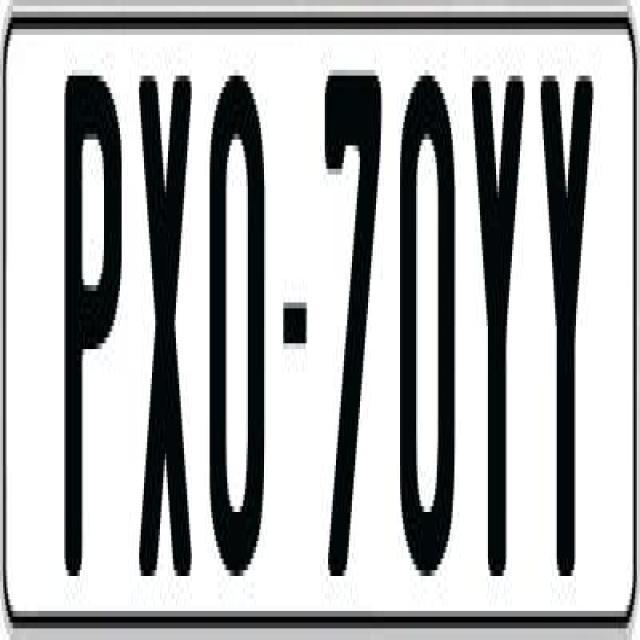0: (400, 70, 462, 606), (205, 76, 269, 594)
7: (320, 64, 384, 582)
P: (61, 70, 128, 594)
X: (139, 63, 200, 600)
Y: (538, 64, 598, 570), (468, 58, 524, 570)
